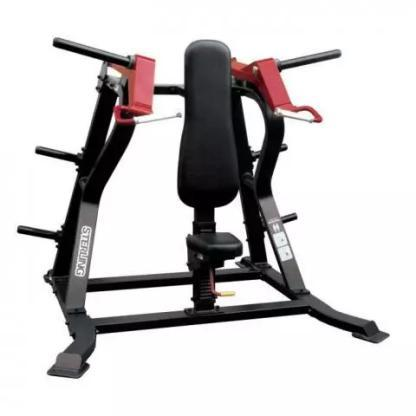shoulder press machine: (13, 26, 396, 404)
